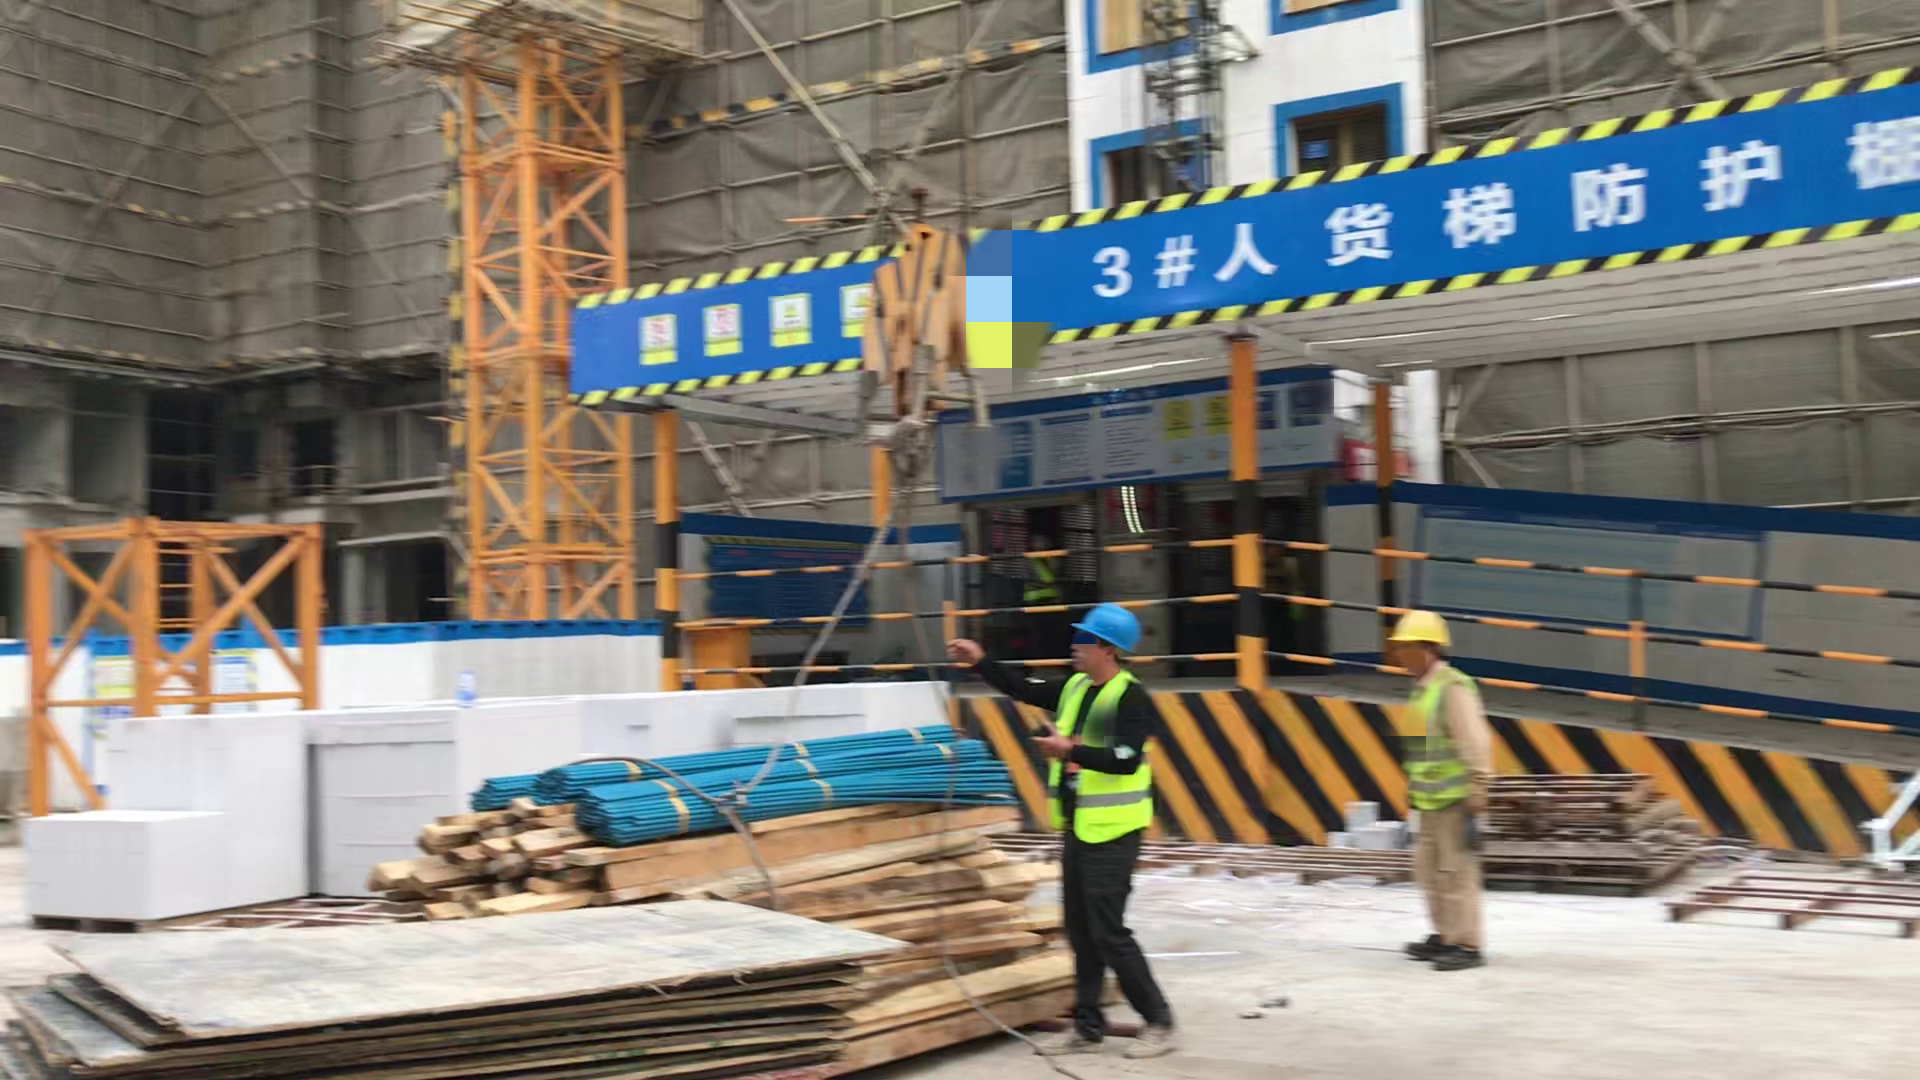board: (15, 883, 873, 1080)
brick: (60, 693, 558, 918), (569, 669, 954, 748)
helmet: (1064, 593, 1153, 670), (1389, 600, 1455, 654)
hook: (836, 233, 1009, 432)
person: (954, 598, 1187, 1077), (1381, 607, 1516, 982)
vest: (1058, 673, 1148, 833), (1403, 683, 1481, 818)
wood: (405, 805, 1059, 898)
